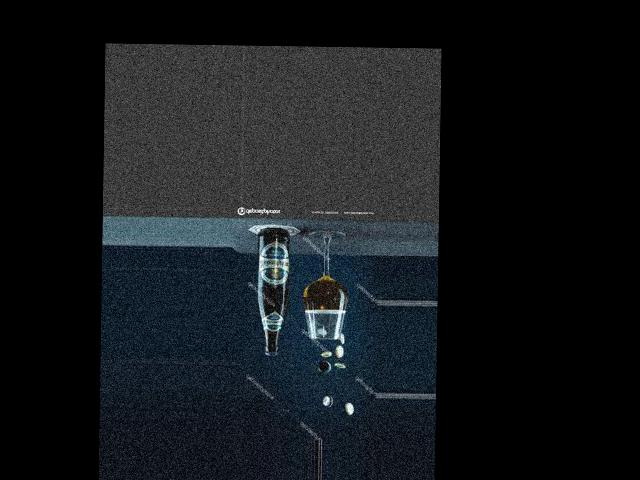beer: (257, 228, 289, 354)
